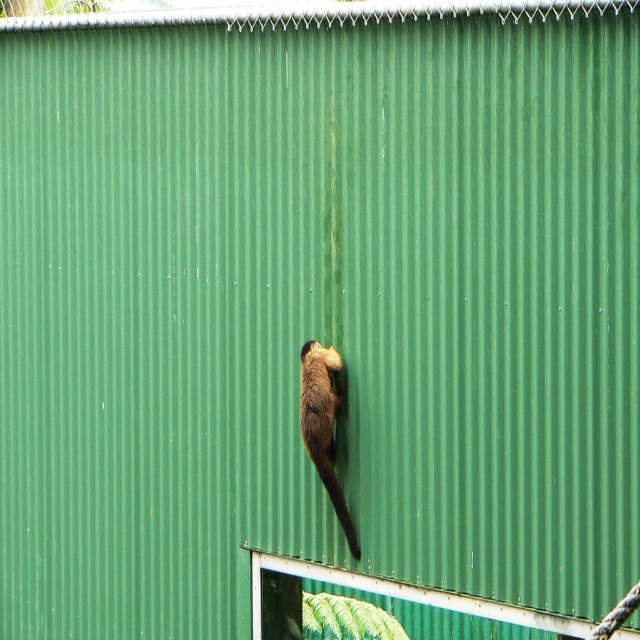Monkey: (299, 339, 361, 560)
